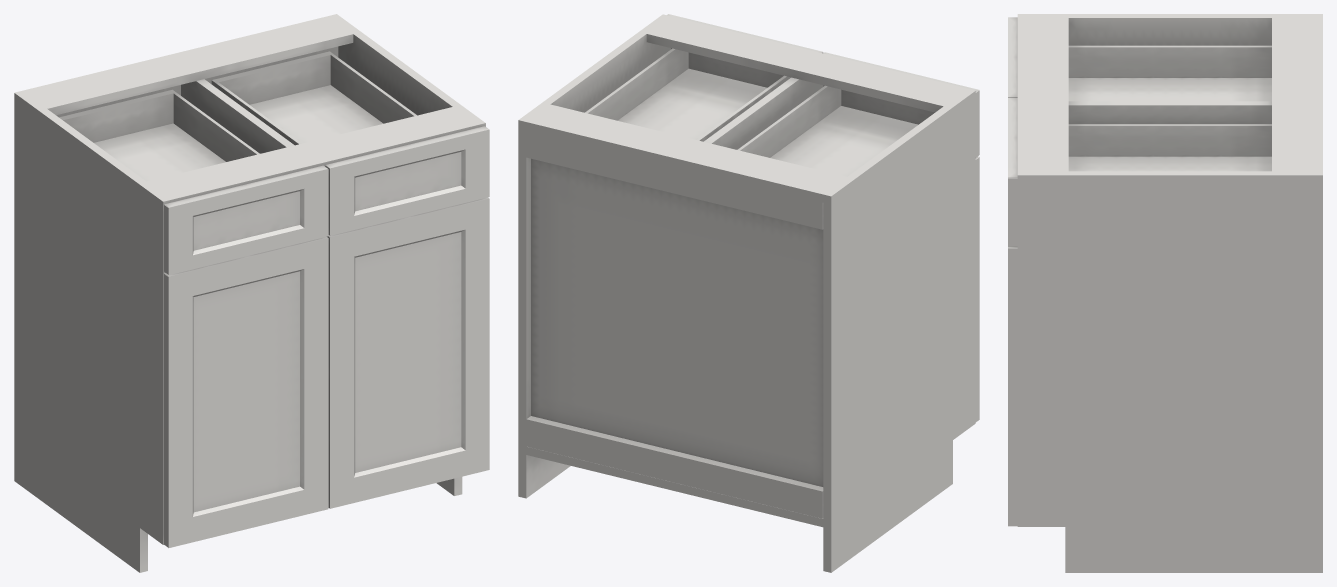
The model's file is 2-door-2-drawer-base-doors-on.glb.
3 views of the same model, side by side, from view 1: azimuth 30°, elevation 25°; view 2: azimuth 150°, elevation 25°; view 3: azimuth 270°, elevation 25° (orthographic). The views are drawn at different scales.
Parts seen in each view (by area): view 1: part_25, part_0, part_4; view 2: part_0, part_4, part_25; view 3: part_0, part_4, part_25.
Boxes of the visible parts, left/top/right/bottom form: part_25: left=164, top=126, right=489, bottom=547; part_0: left=14, top=14, right=485, bottom=572; part_4: left=59, top=51, right=416, bottom=181; part_0: left=518, top=14, right=975, bottom=572; part_4: left=585, top=48, right=918, bottom=176; part_25: left=667, top=14, right=979, bottom=422; part_0: left=1017, top=14, right=1322, bottom=572; part_4: left=1068, top=45, right=1271, bottom=171; part_25: left=1008, top=17, right=1017, bottom=526.
Size of the model in its own units: 0.762 by 0.8763 by 0.6286.
Materials: 3 (2 with a texture image).
